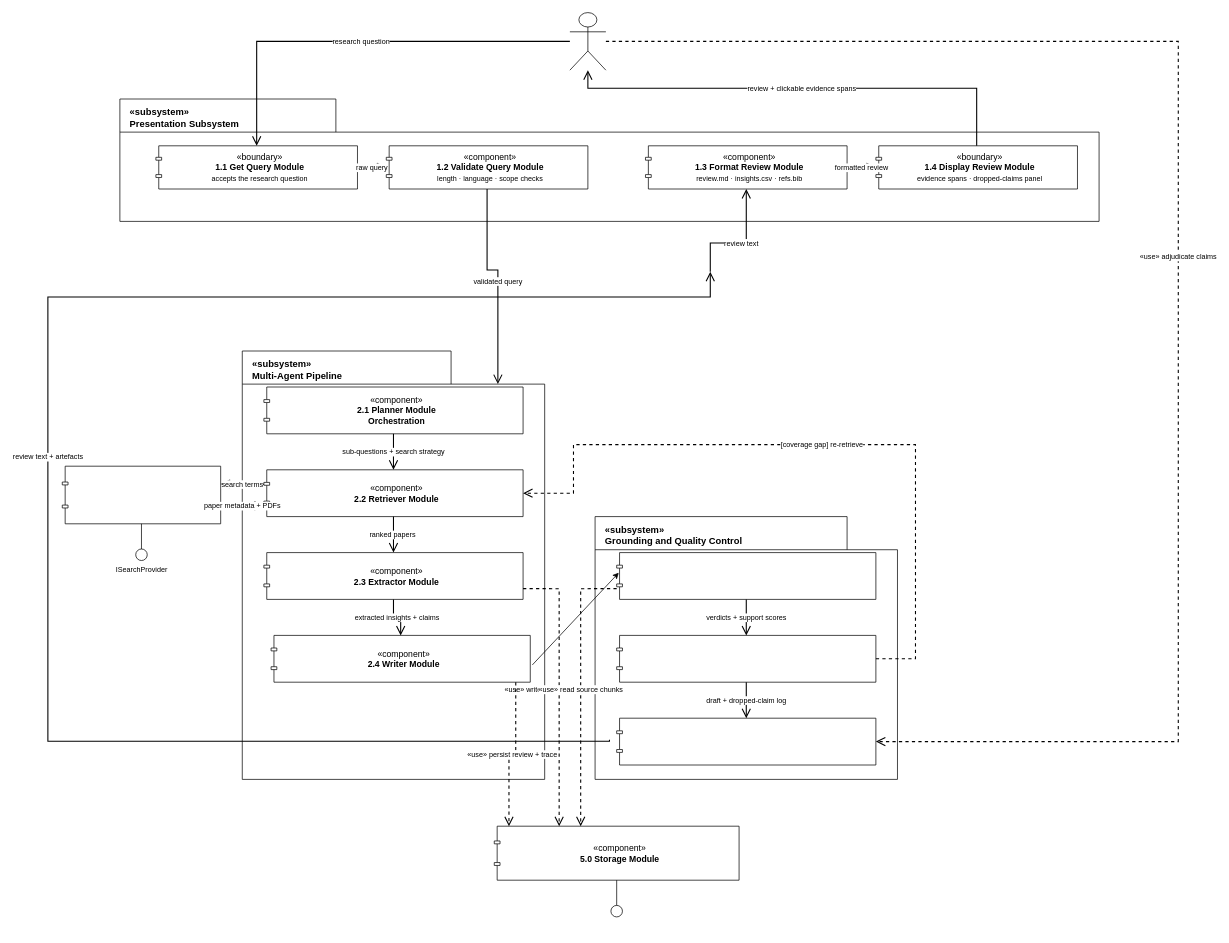
Image size: 1229x943. Some labels were removed from this diagram. Here are the shapes that lost their labels. From the top down, the centre of each, then its label:
point (587, 41): Researcher
point (141, 494): «component» 4.0 Paper Source Client Semantic Scholar · OpenAlex
point (746, 575): «component» 3.1 Verifier Module
point (746, 658): «component» 3.2 Critic Module
point (746, 741): «boundary» 3.3 Human Review Console
point (616, 911): IPersistence
